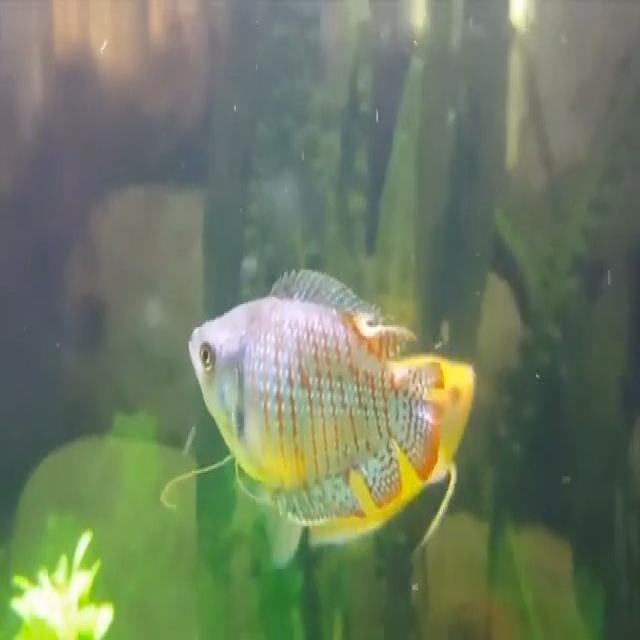fish: (189, 269, 444, 522), (449, 328, 476, 489)
